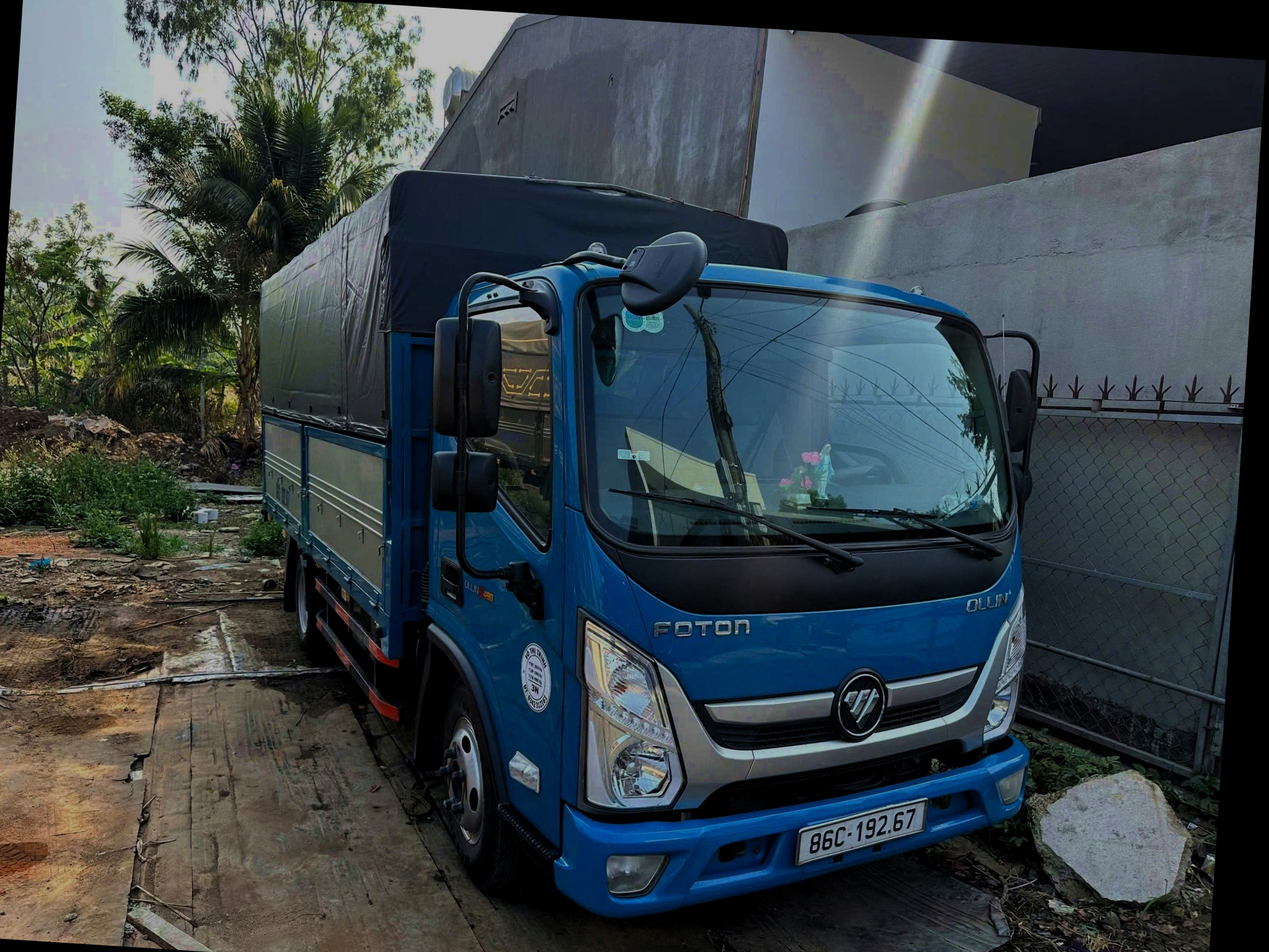Bien-so: (802, 794, 930, 880)
